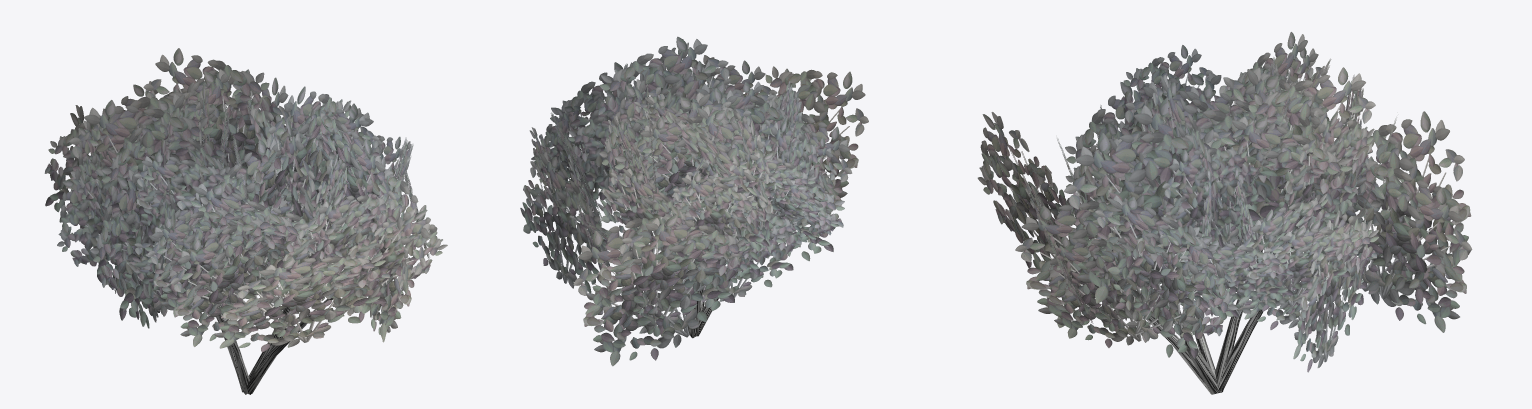
The model's file is bush_round_l0.gltf.
The picture shows the model from 3 angles, left to right: view 1: azimuth 30°, elevation 25°; view 2: azimuth 150°, elevation 25°; view 3: azimuth 270°, elevation 25°; orthographic projection. The views are drawn at different scales.
Parts seen in each view (by area): view 1: bush_round_l0; view 2: bush_round_l0; view 3: bush_round_l0.
Part boxes in pixels (<box>): bush_round_l0: <box>44,48,447,394</box>; bush_round_l0: <box>520,36,868,366</box>; bush_round_l0: <box>977,32,1472,394</box>.
Size of the model in its own units: 2.07 by 1.84 by 2.57.
2 materials, 2 textured.
